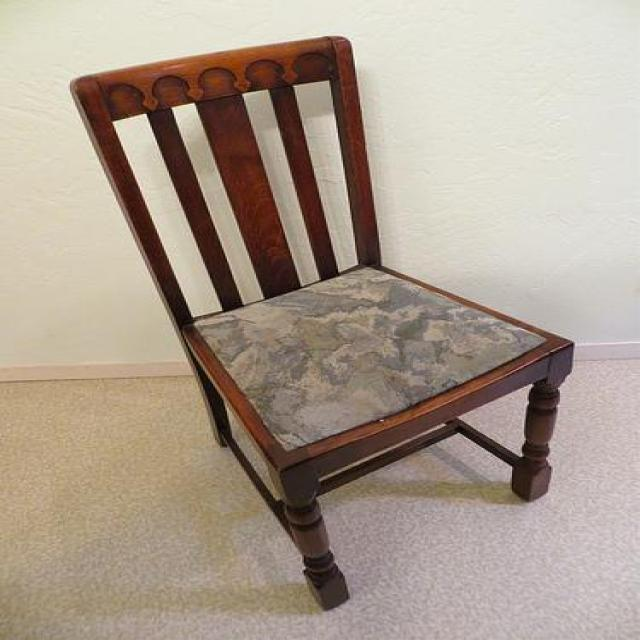chair: (70, 31, 578, 610)
